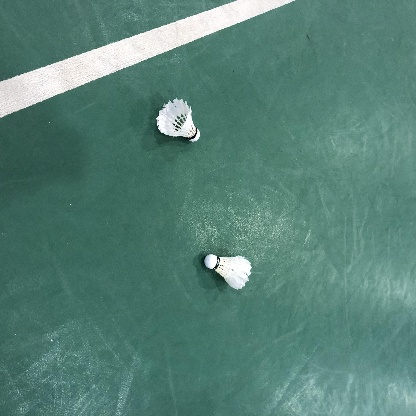ball_single: (156, 99, 200, 142), (205, 254, 252, 290)
